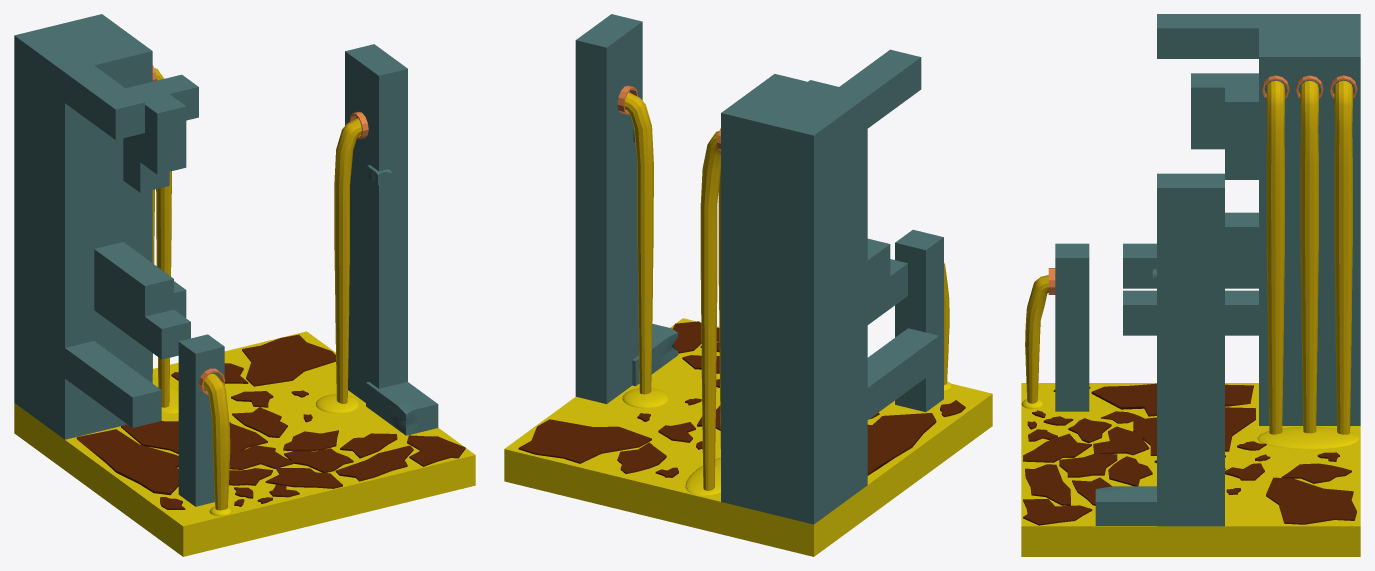
Rendered from lava_fall_env.fbx.
The picture shows the model from 3 angles, left to right: view 1: azimuth 30°, elevation 25°; view 2: azimuth 150°, elevation 25°; view 3: azimuth 270°, elevation 25°; orthographic projection. The views are drawn at different scales.
Parts seen in each view (by area): view 1: lava_fall_env, lava_lake, lava_crusts, lava_fall5, lava_fall1, lava_fall2; view 2: lava_fall_env, lava_lake, lava_crusts, lava_fall4, lava_fall5; view 3: lava_fall_env, lava_lake, lava_crusts, lava_fall4, lava_fall2, lava_fall3, lava_fall1.
Part boxes in pixels (bbox=[...]): lava_fall_env: bbox=[14, 14, 438, 506]; lava_lake: bbox=[14, 331, 475, 556]; lava_crusts: bbox=[76, 334, 465, 509]; lava_fall5: bbox=[334, 118, 361, 403]; lava_fall1: bbox=[203, 374, 230, 510]; lava_fall2: bbox=[154, 68, 171, 407]; lava_fall_env: bbox=[575, 14, 944, 524]; lava_lake: bbox=[504, 318, 992, 556]; lava_crusts: bbox=[518, 321, 965, 477]; lava_fall4: bbox=[700, 131, 720, 490]; lava_fall5: bbox=[624, 92, 653, 394]; lava_fall_env: bbox=[1048, 14, 1360, 526]; lava_lake: bbox=[1021, 383, 1360, 556]; lava_crusts: bbox=[1023, 383, 1356, 525]; lava_fall4: bbox=[1334, 80, 1352, 434]; lava_fall2: bbox=[1266, 80, 1284, 434]; lava_fall3: bbox=[1300, 80, 1318, 433]; lava_fall1: bbox=[1025, 275, 1048, 403].
Bounding box in the file's own units: 100 × 130 × 100.
Materials: 2 (1 with a texture image).
